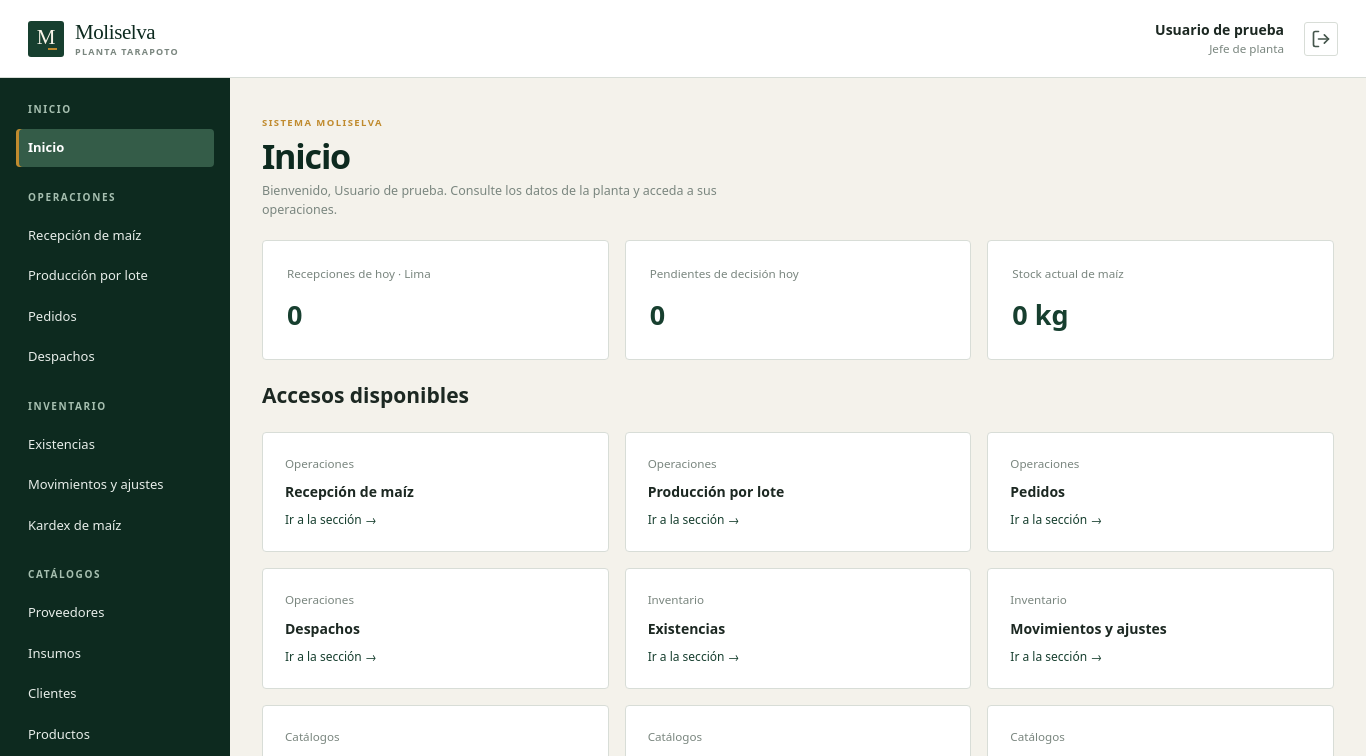
it: valida sesión, abre inicio, navega a kardex y cierra sesión
Later steps or results of the test are not shown.
What coordinates should you click on to do the following:
click the link to "#/kardex"
I would click on:
 (75, 524)
Its box is 28,516 -> 121,534.
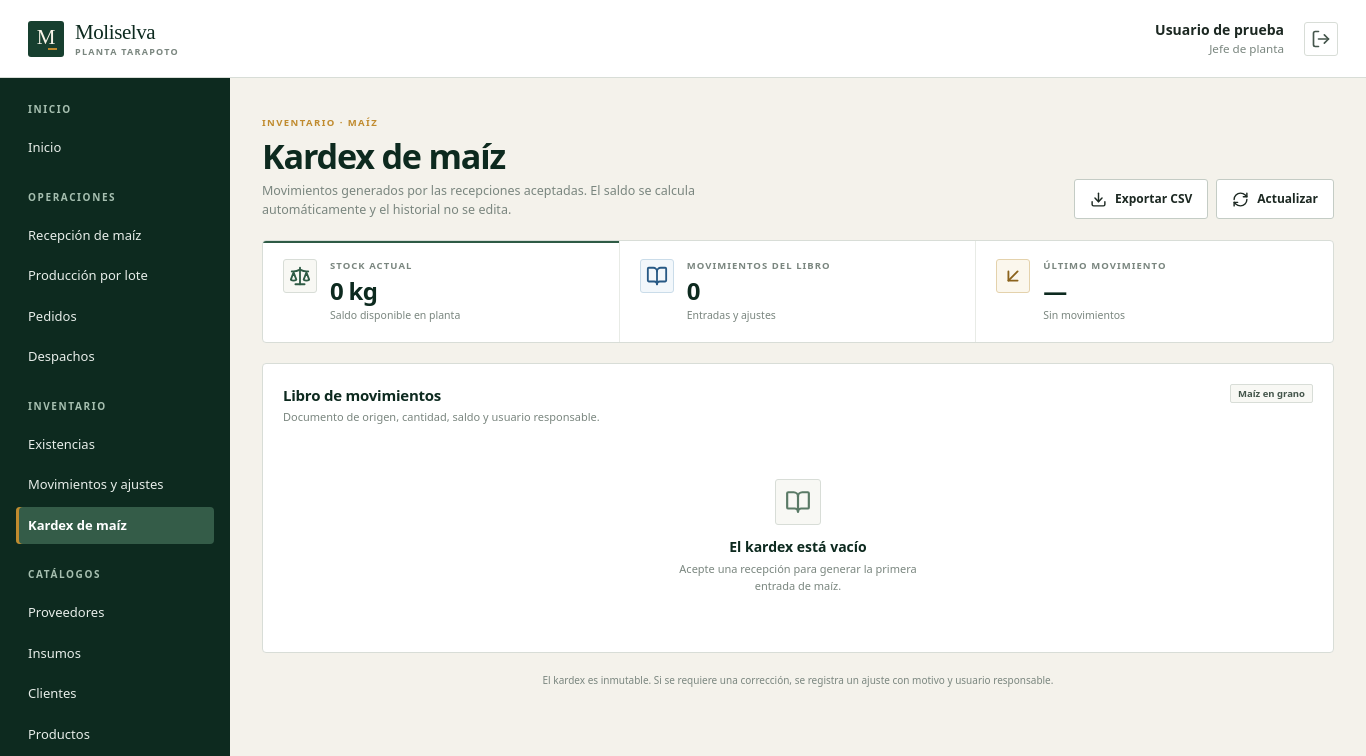
Now the heading "Kardex de maíz" is shown, box 262,132 -> 505,179
